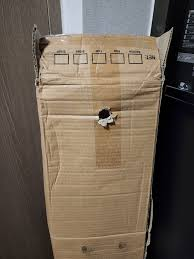damaged package: (34, 27, 160, 86), (97, 107, 116, 124)
